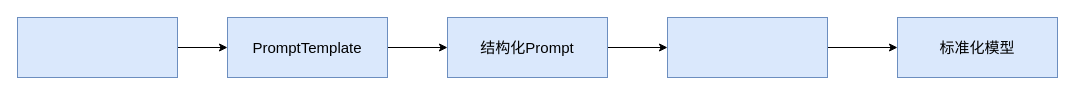
Some shapes in this 1075 by 95 pixel diagram are drawn without their labels. The box of each missing label's shape, as (x1, y1, x2, y2) in pixels:
大模型: (666, 16, 828, 78)
输入变量: (16, 16, 178, 78)
